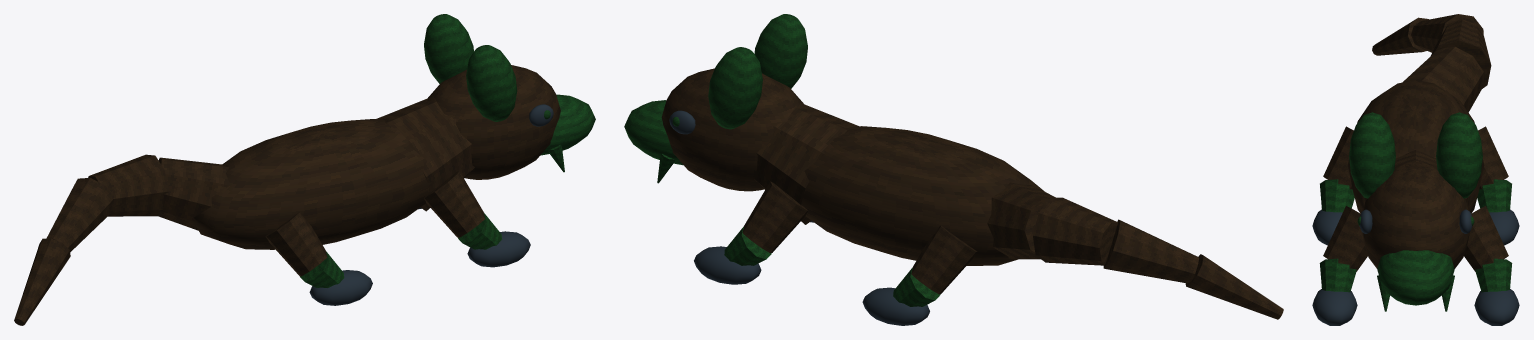
File: hostil-3.glb
The picture shows the model from 3 angles, left to right: view 1: azimuth 30°, elevation 25°; view 2: azimuth 150°, elevation 25°; view 3: azimuth 270°, elevation 25°; orthographic projection. The views are drawn at different scales.
Visible parts, largest first — view 1: Tronco.011, Focinho.007, Olho.007; view 2: Tronco.011, Focinho.007, Olho.007; view 3: Tronco.011, Focinho.007, Olho.007.
Boxes of the visible parts, <box> form: Tronco.011: <box>14,65,560,325</box>; Focinho.007: <box>300,14,595,287</box>; Olho.007: <box>309,104,553,305</box>; Tronco.011: <box>661,68,1283,319</box>; Focinho.007: <box>624,14,940,306</box>; Olho.007: <box>669,110,929,325</box>; Tronco.011: <box>1323,14,1508,272</box>; Focinho.007: <box>1319,112,1512,311</box>; Olho.007: <box>1312,209,1519,325</box>.
Size of the model in its own units: 1.66 by 0.5406 by 0.486.
Materials: 3 (2 with a texture image).
